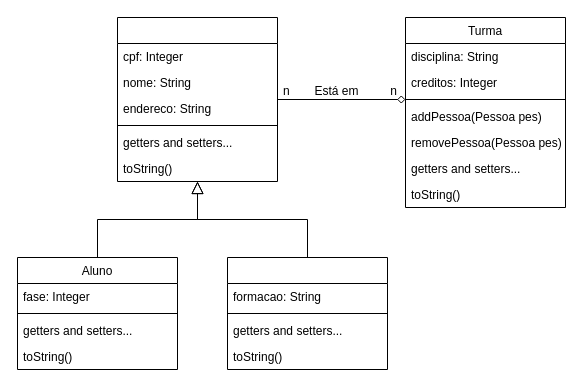
This 583x390 diagram has some shape labels left out. Here are the shapes that lost their labels. From the top down, the box of each, then its label:
(116, 16, 278, 182): Pessoa
(226, 256, 388, 370): Professor
